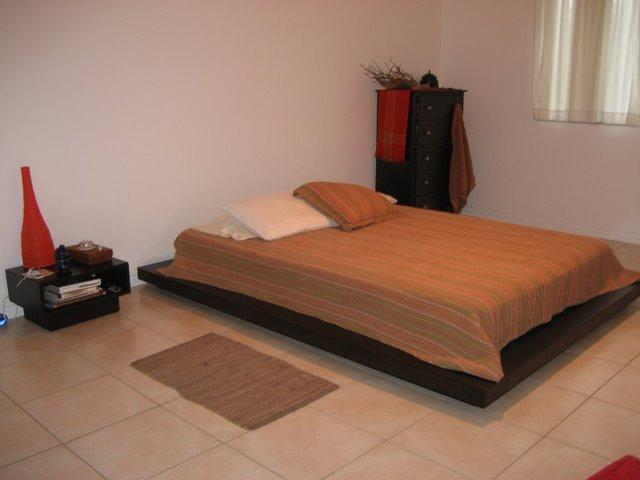Armario: (386, 94, 463, 204)
Cama: (173, 190, 622, 358)
Ventana: (538, 8, 636, 120)
